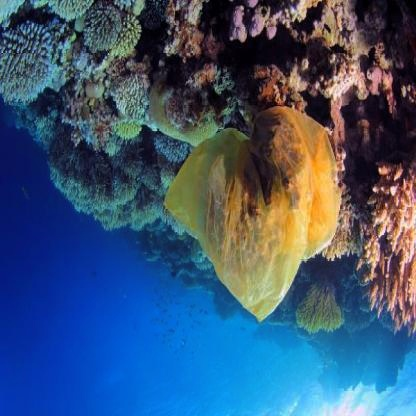pbag: (151, 104, 344, 329)
